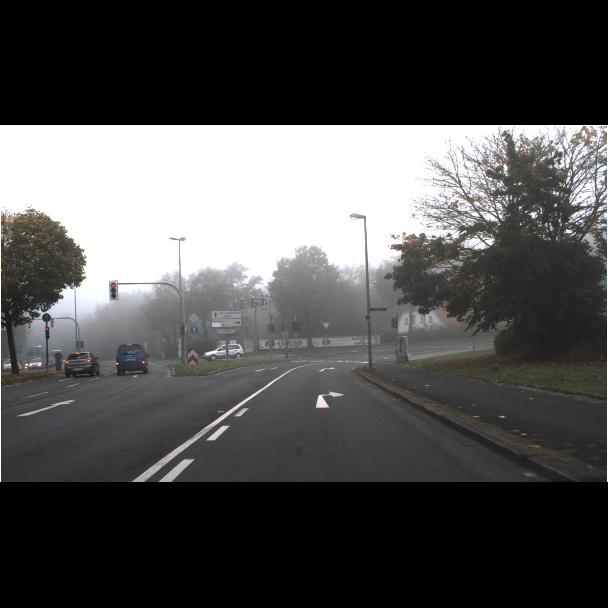give way: (188, 312, 330, 335)
